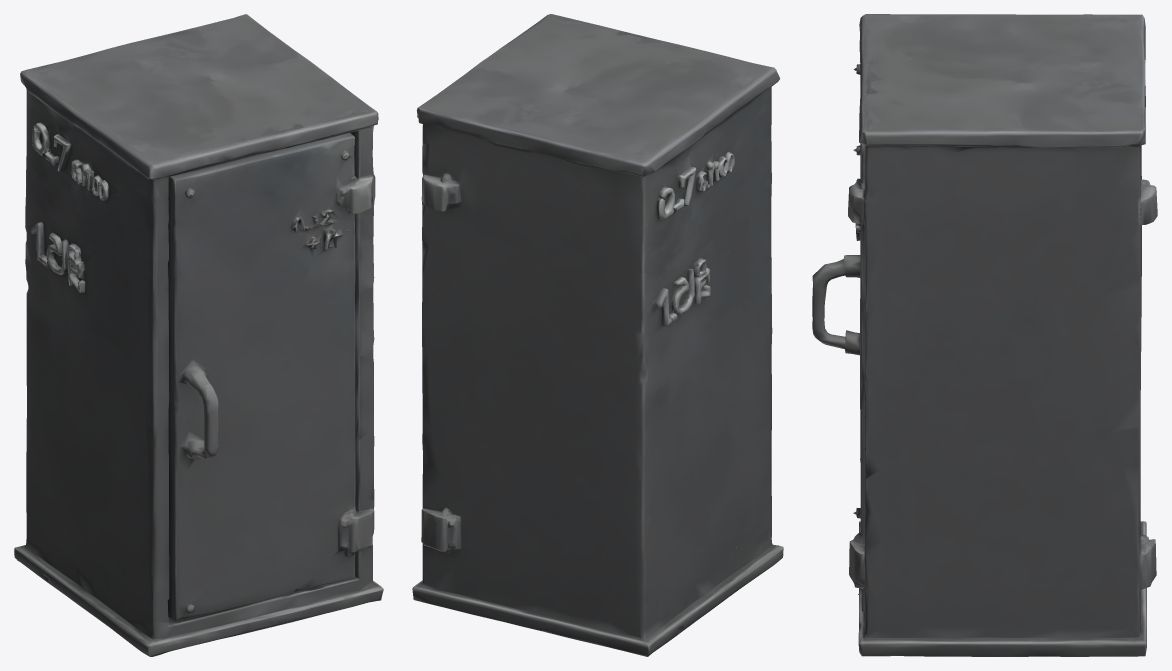
File: level1-file-cabinet.glb
3 renders of one model, left to right at view 1: azimuth 30°, elevation 25°; view 2: azimuth 150°, elevation 25°; view 3: azimuth 270°, elevation 25°, orthographic. The views are drawn at different scales.
Visible parts, largest first — view 1: tripo_node_3acd55a9-911e-4afa-9fb8-f42e2bd57577; view 2: tripo_node_3acd55a9-911e-4afa-9fb8-f42e2bd57577; view 3: tripo_node_3acd55a9-911e-4afa-9fb8-f42e2bd57577.
Boxes of the visible parts, x1,y1,x2,y2 form: tripo_node_3acd55a9-911e-4afa-9fb8-f42e2bd57577: (14, 14, 383, 656); tripo_node_3acd55a9-911e-4afa-9fb8-f42e2bd57577: (412, 14, 783, 656); tripo_node_3acd55a9-911e-4afa-9fb8-f42e2bd57577: (812, 14, 1157, 656).
Size of the model in its own units: 0.4913 by 0.9789 by 0.5818.
Materials: 1 (1 with a texture image).
